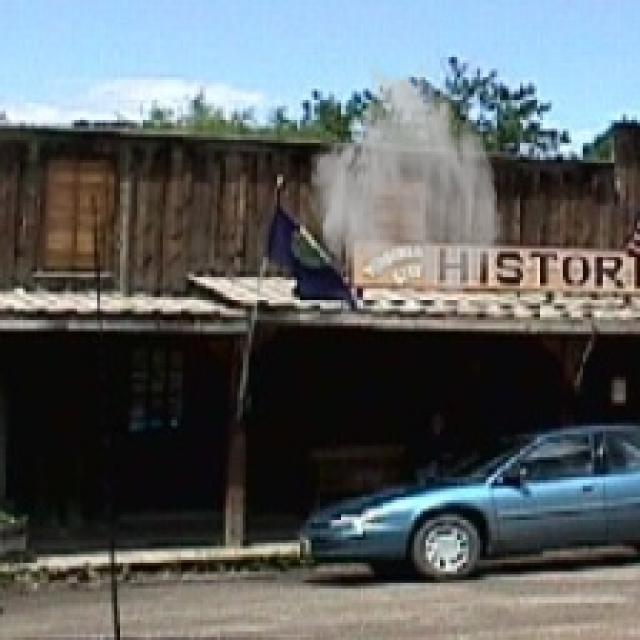Smoke: (306, 60, 506, 300)
